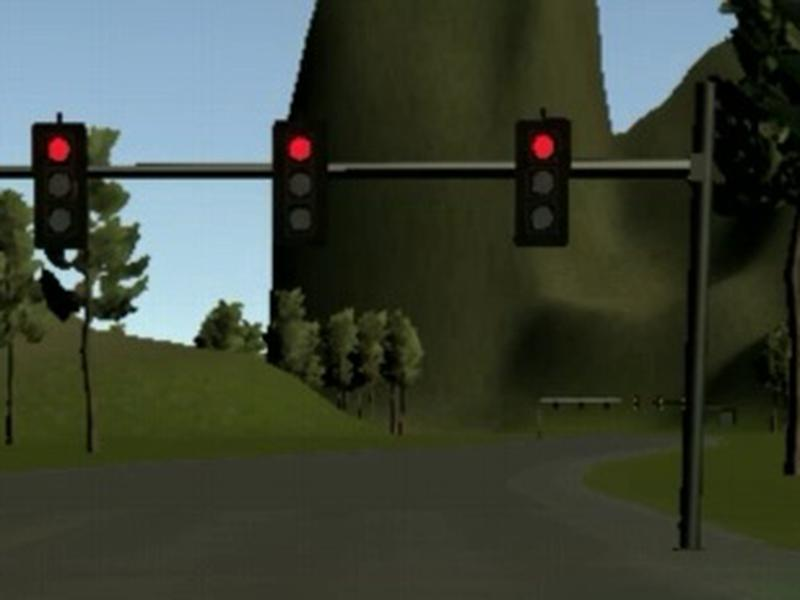Red: (271, 120, 327, 246), (32, 123, 88, 249), (516, 121, 570, 246)
